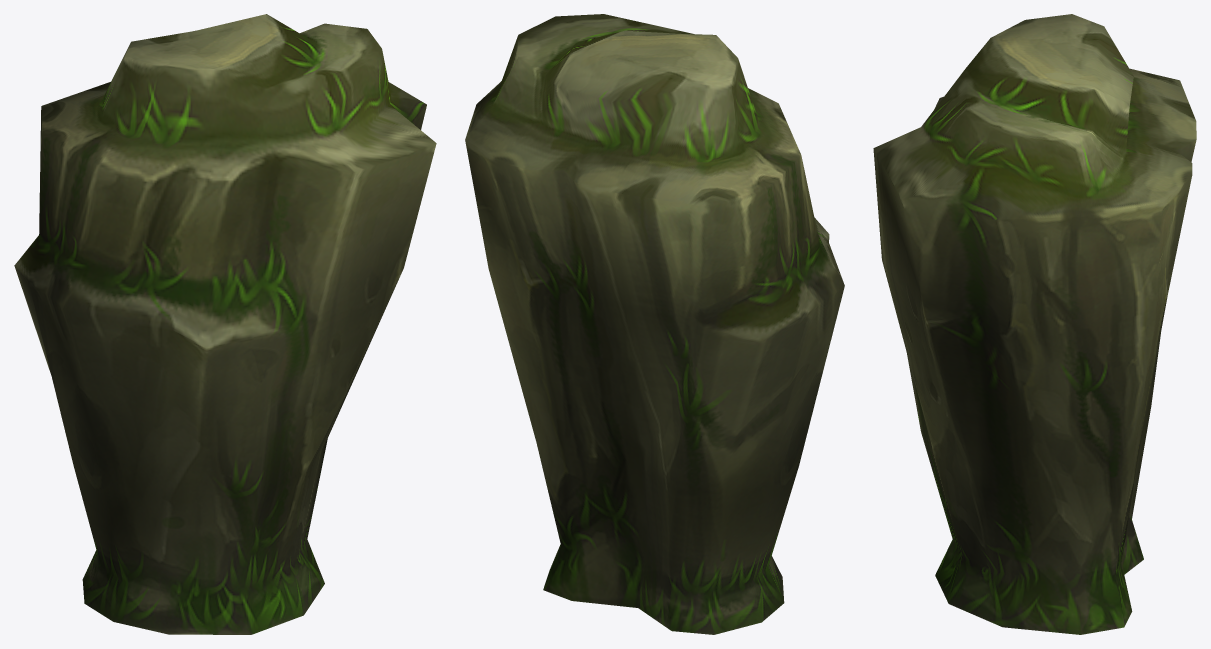
The model's file is Rock_Formation_02_02.fbx.
The picture shows the model from 3 angles, left to right: view 1: azimuth 30°, elevation 25°; view 2: azimuth 150°, elevation 25°; view 3: azimuth 270°, elevation 25°; orthographic projection. The views are drawn at different scales.
Visible parts, largest first — view 1: Rock_Formation_02_02; view 2: Rock_Formation_02_02; view 3: Rock_Formation_02_02.
Part boxes in pixels (<box>): Rock_Formation_02_02: <box>14,14,436,634</box>; Rock_Formation_02_02: <box>465,14,844,634</box>; Rock_Formation_02_02: <box>873,14,1196,634</box>.
Size of the model in its own units: 118 by 177 by 96.32.
